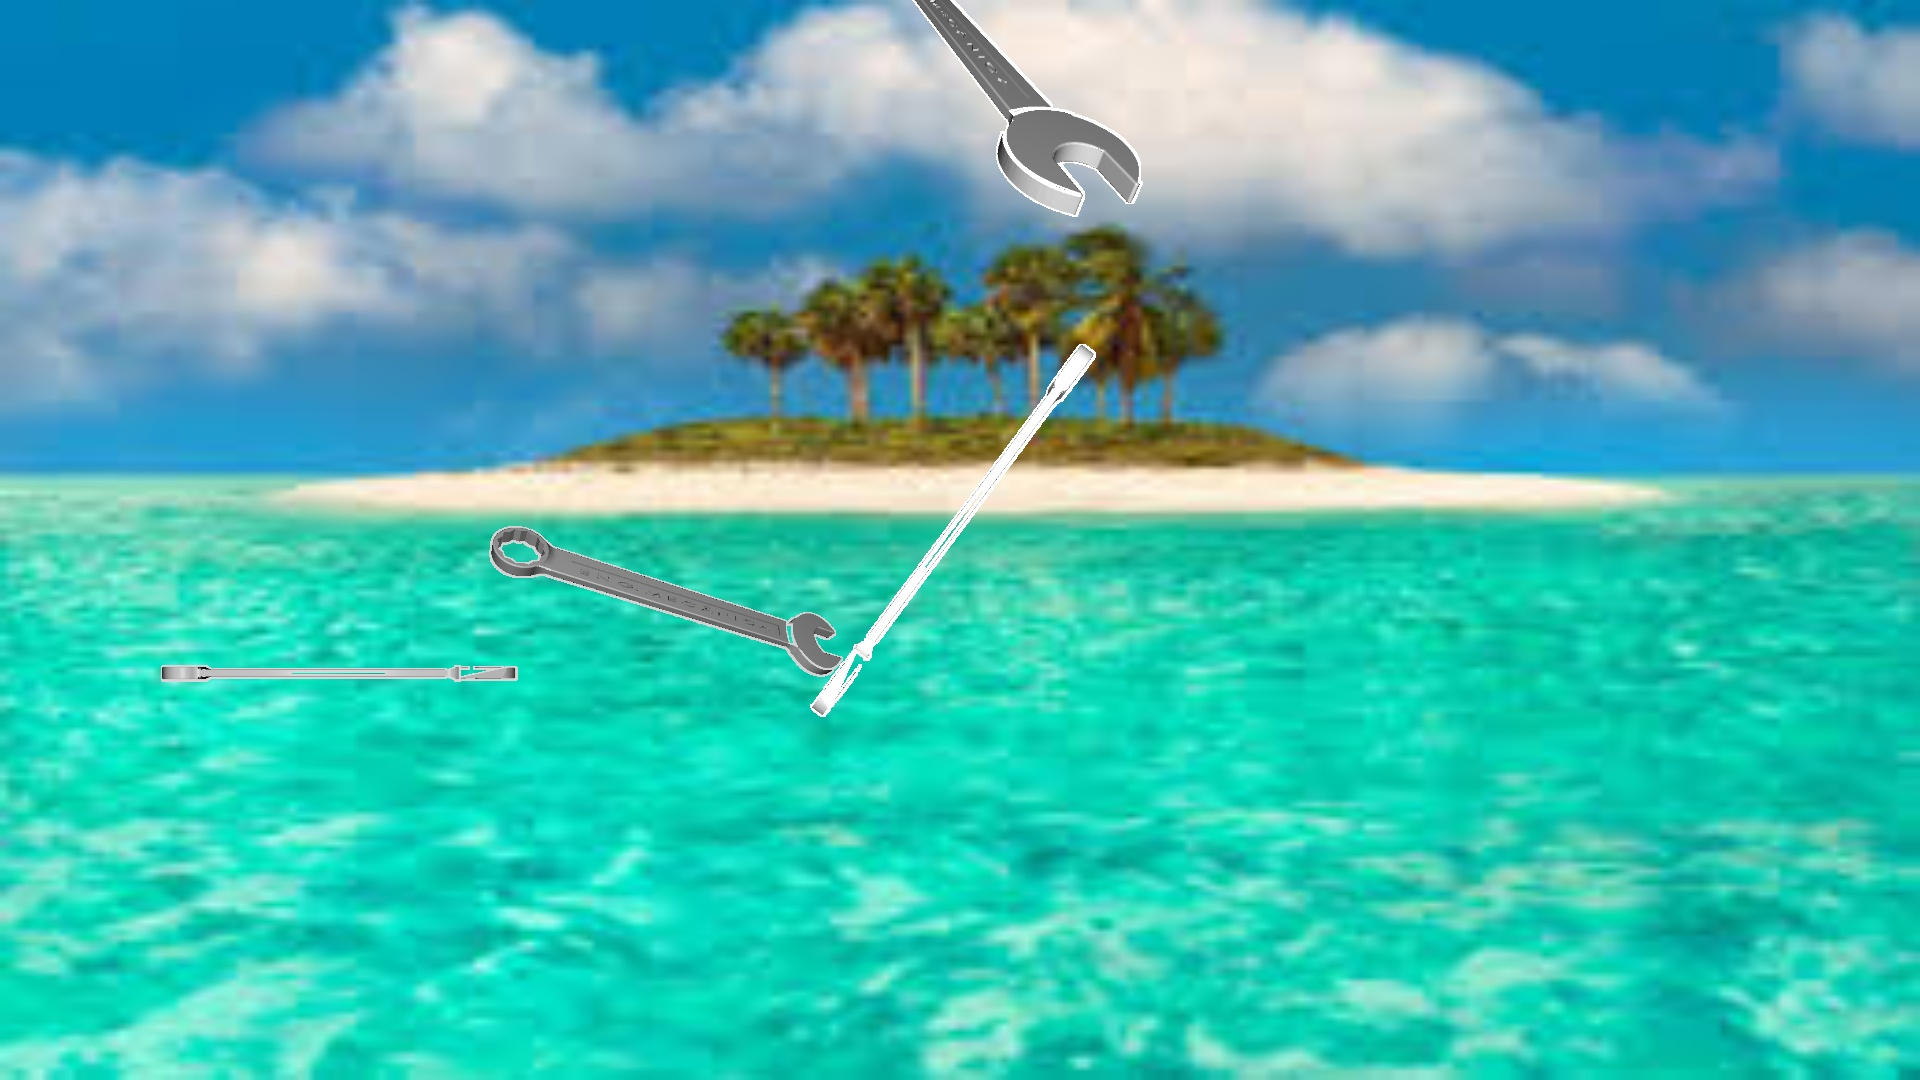Mixed Key: (810, 344, 1095, 716), (489, 526, 843, 676), (913, 0, 1142, 216), (161, 665, 517, 680)
